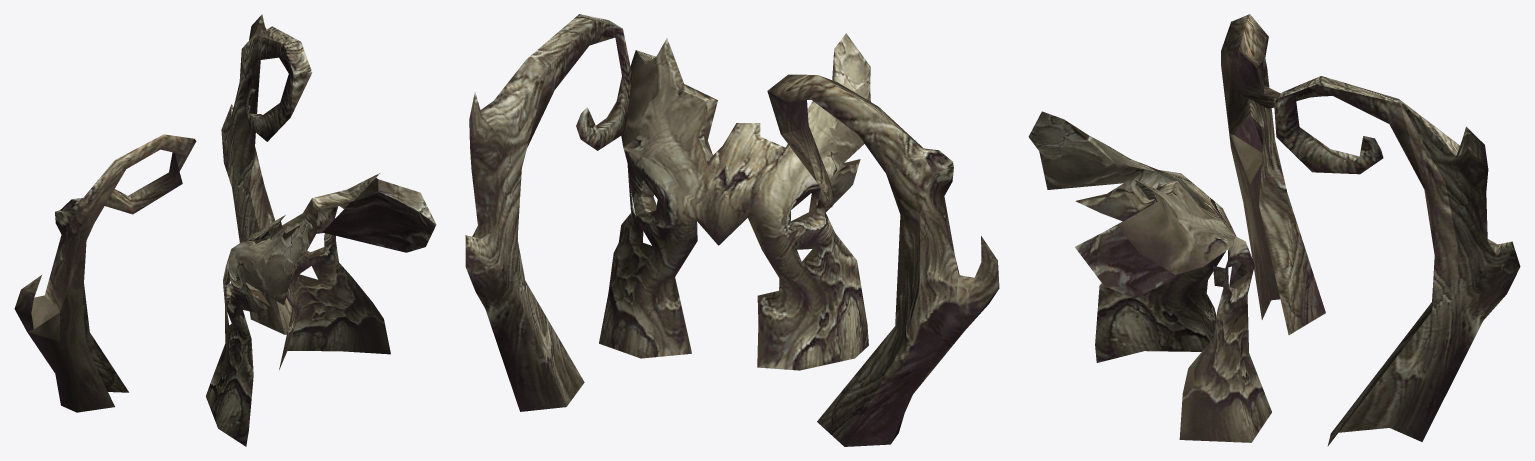
Rendered from 7002_Item_gutou_4.FBX.
The picture shows the model from 3 angles, left to right: view 1: azimuth 30°, elevation 25°; view 2: azimuth 150°, elevation 25°; view 3: azimuth 270°, elevation 25°; orthographic projection. The views are drawn at different scales.
Parts seen in each view (by area): view 1: 7002_Item_gutou_4; view 2: 7002_Item_gutou_4; view 3: 7002_Item_gutou_4.
Part boxes in pixels (x1,y1,x2,y2): 7002_Item_gutou_4: [14, 14, 436, 446]; 7002_Item_gutou_4: [465, 14, 999, 446]; 7002_Item_gutou_4: [1028, 14, 1520, 446].
Size of the model in its own units: 4.12 by 3.38 by 4.14.
